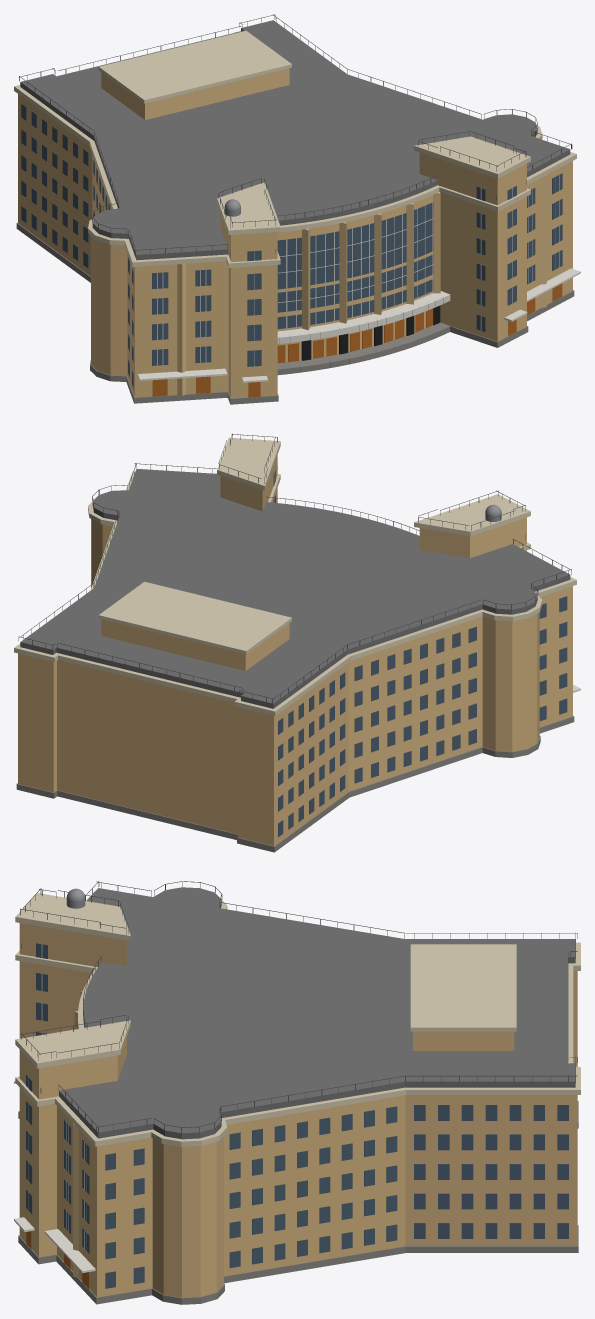
File: dk_gorky.glb
3 renders of one model, top to bottom at view 1: azimuth 30°, elevation 25°; view 2: azimuth 150°, elevation 25°; view 3: azimuth 270°, elevation 25°, orthographic. The views are drawn at different scales.
Parts seen in each view (by area): view 1: Ð¡ÑÐµÐ½Ñ; view 2: Ð¡ÑÐµÐ½Ñ; view 3: Ð¡ÑÐµÐ½Ñ.
Boxes of the visible parts, box(x1,y1,x2,y2) form: Ð¡ÑÐµÐ½Ñ: box(14, 14, 580, 404); Ð¡ÑÐµÐ½Ñ: box(14, 433, 580, 852); Ð¡ÑÐµÐ½Ñ: box(14, 881, 580, 1304).
Bounding box in the file's own units: 81.92 × 33.1 × 78.27.
Materials: 1 (1 with a texture image).
